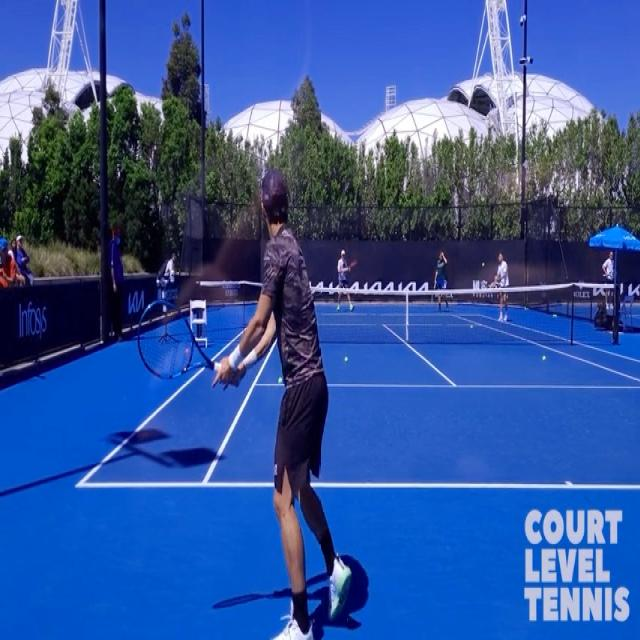backhand-ready: (140, 166, 352, 640)
